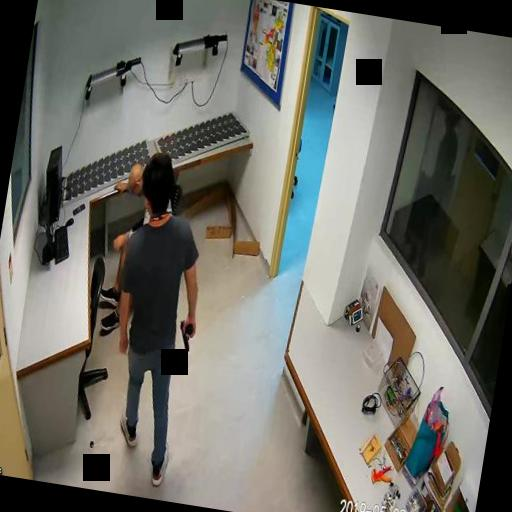Handgun: (174, 312, 196, 351)
